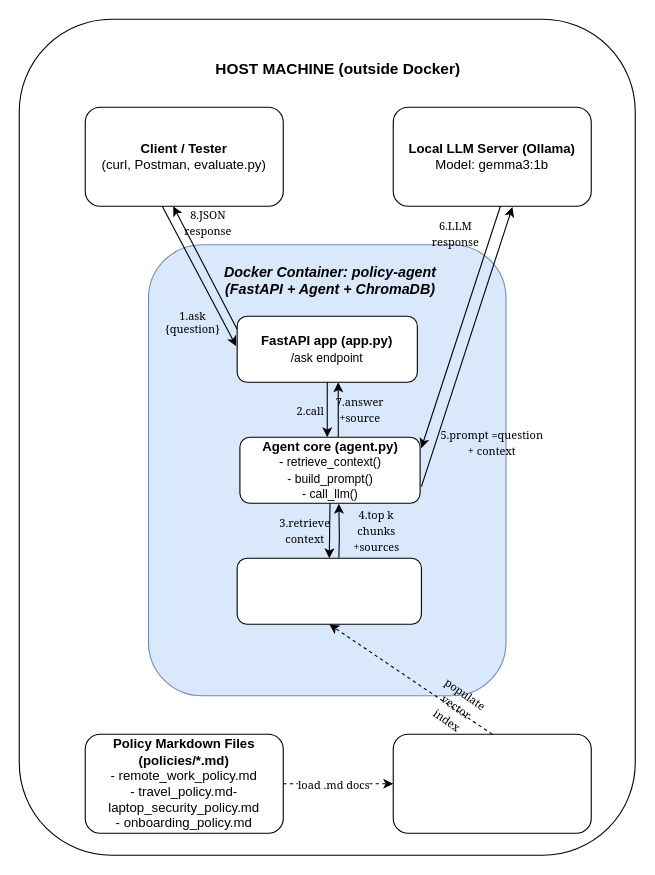
This 655x875 diagram has some shape labels left out. Here are the shapes that lost their labels. From the top down, the centre of each, then its label:
[328,590]: Chroma DB(chroma_db/) - HF embeddings - policy chunks
[491,783]: Preprocessing script (rag.py ) - chunk + embed - build chroma_db/
